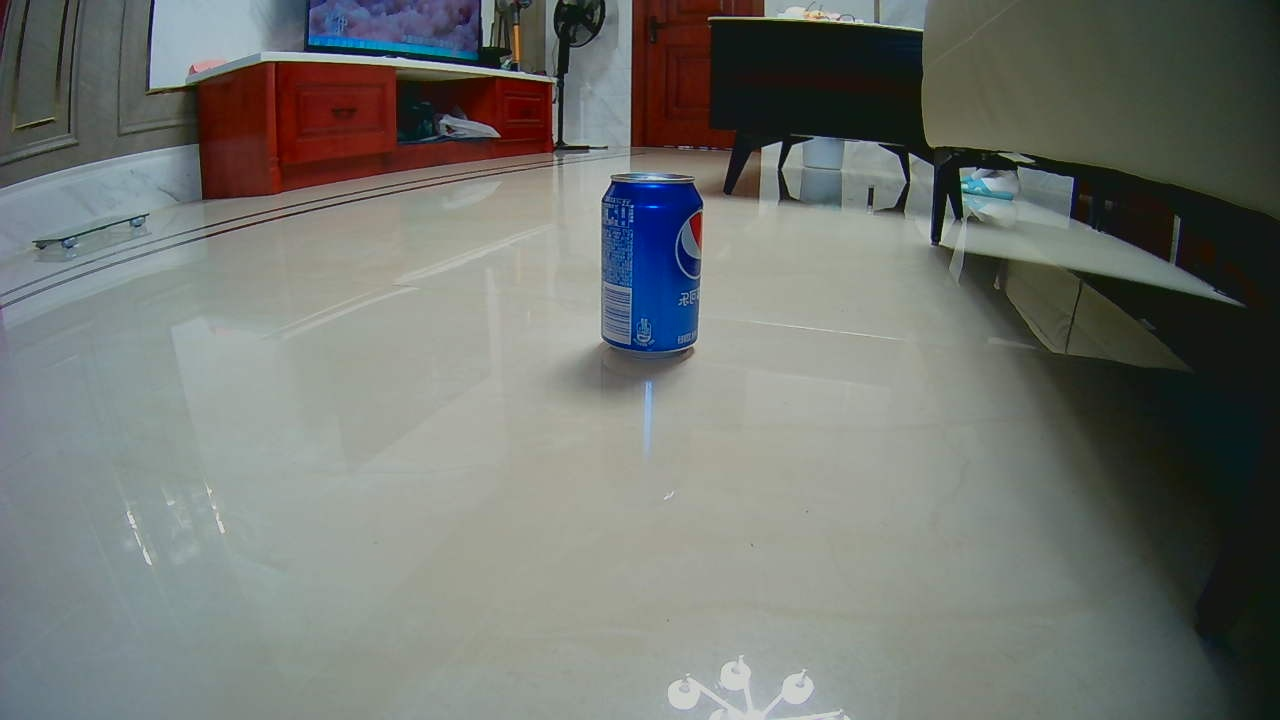pessi: (595, 170, 704, 358)
